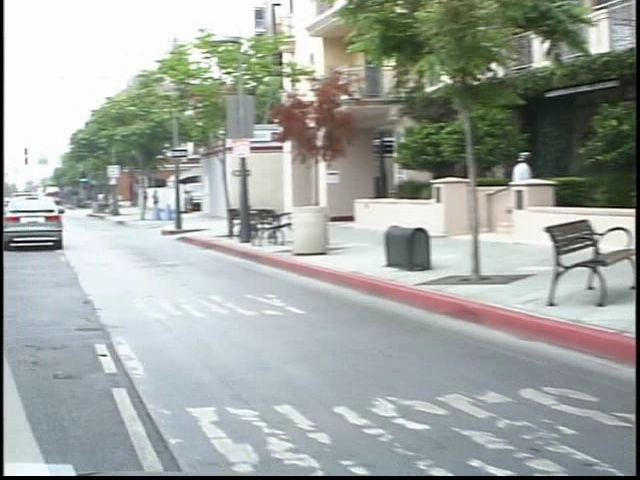person: (486, 146, 527, 237), (136, 184, 151, 218)
